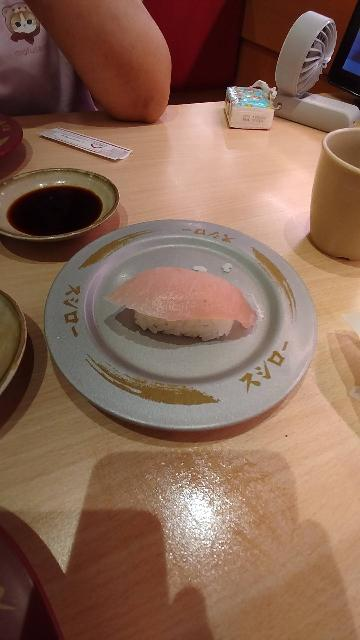janwhite: (63, 220, 301, 439)
